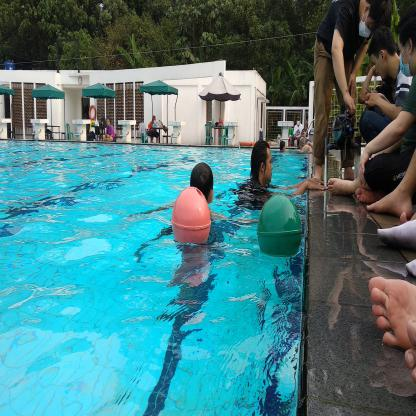green_buoy: (254, 186, 305, 268)
red_buoy: (171, 186, 214, 252)
